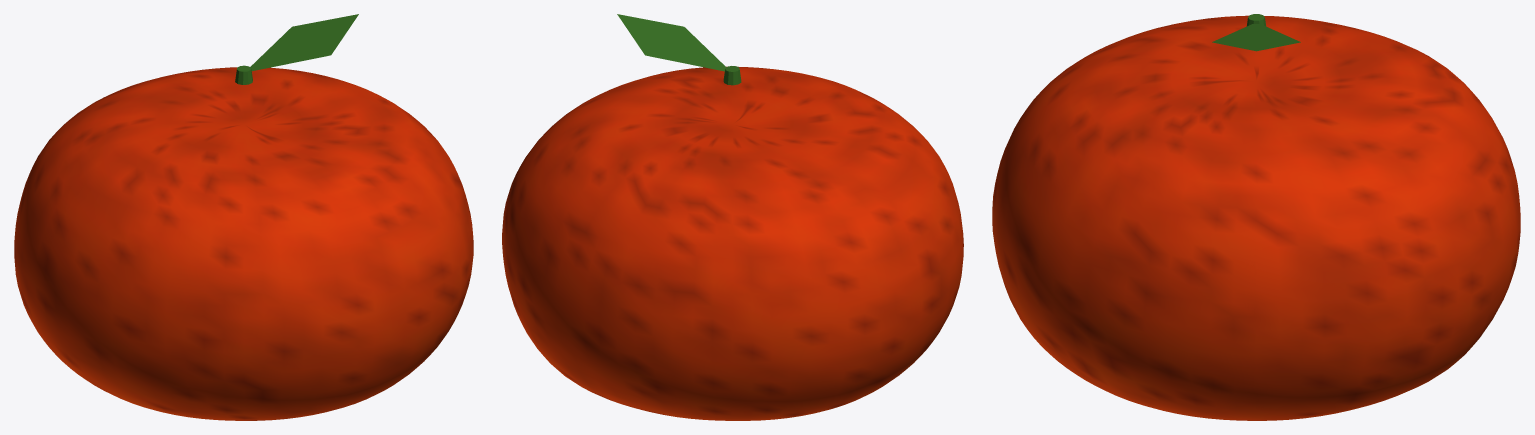
The model's file is mandarine.glb.
The picture shows the model from 3 angles, left to right: view 1: azimuth 30°, elevation 25°; view 2: azimuth 150°, elevation 25°; view 3: azimuth 270°, elevation 25°; orthographic projection. The views are drawn at different scales.
Visible parts, largest first — view 1: entier_peau, moitie_B_peau, moitie_A_peau, entier_extra0; view 2: entier_peau, moitie_A_peau, moitie_B_peau, entier_extra0; view 3: entier_peau, moitie_A_peau, moitie_B_peau, entier_extra0.
Part boxes in pixels (bbox=[...]): entier_peau: bbox=[14, 67, 473, 420]; moitie_B_peau: bbox=[44, 99, 472, 420]; moitie_A_peau: bbox=[14, 67, 398, 362]; entier_extra0: bbox=[235, 14, 358, 84]; entier_peau: bbox=[502, 66, 963, 420]; moitie_A_peau: bbox=[502, 99, 931, 420]; moitie_B_peau: bbox=[581, 67, 963, 360]; entier_extra0: bbox=[617, 14, 741, 85]; entier_peau: bbox=[992, 15, 1520, 420]; moitie_A_peau: bbox=[1256, 16, 1520, 420]; moitie_B_peau: bbox=[992, 16, 1256, 420]; entier_extra0: bbox=[1212, 14, 1300, 51].
Size of the model in its own units: 2 by 1.55 by 2.
